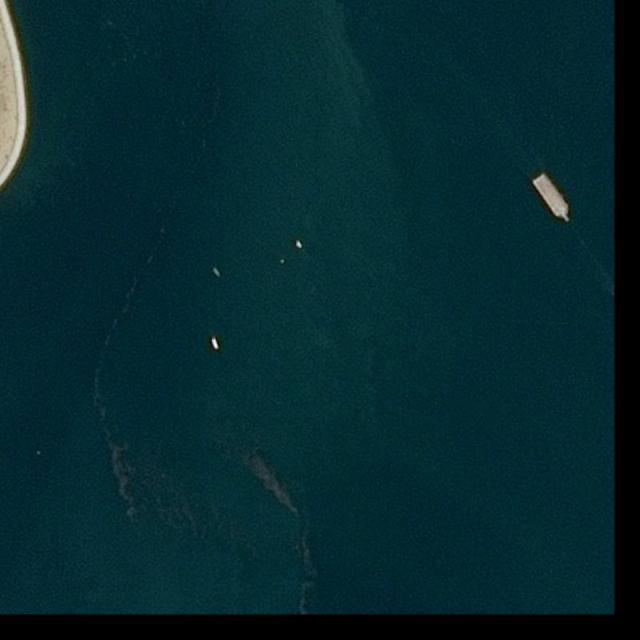ship: (530, 172, 573, 224), (209, 335, 222, 351), (211, 266, 223, 279), (294, 239, 305, 250)
